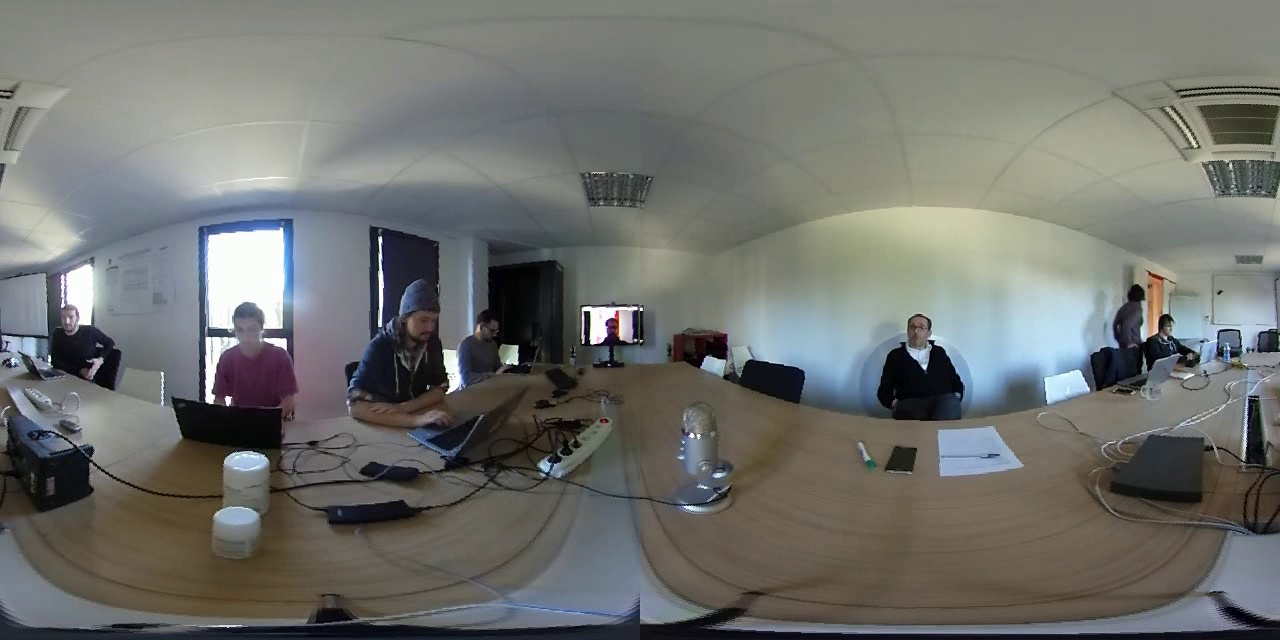person: (347, 273, 452, 419), (868, 301, 974, 412), (204, 298, 298, 404), (34, 286, 108, 385), (455, 294, 511, 379), (1108, 270, 1150, 352), (585, 303, 643, 338), (1153, 307, 1188, 359)
